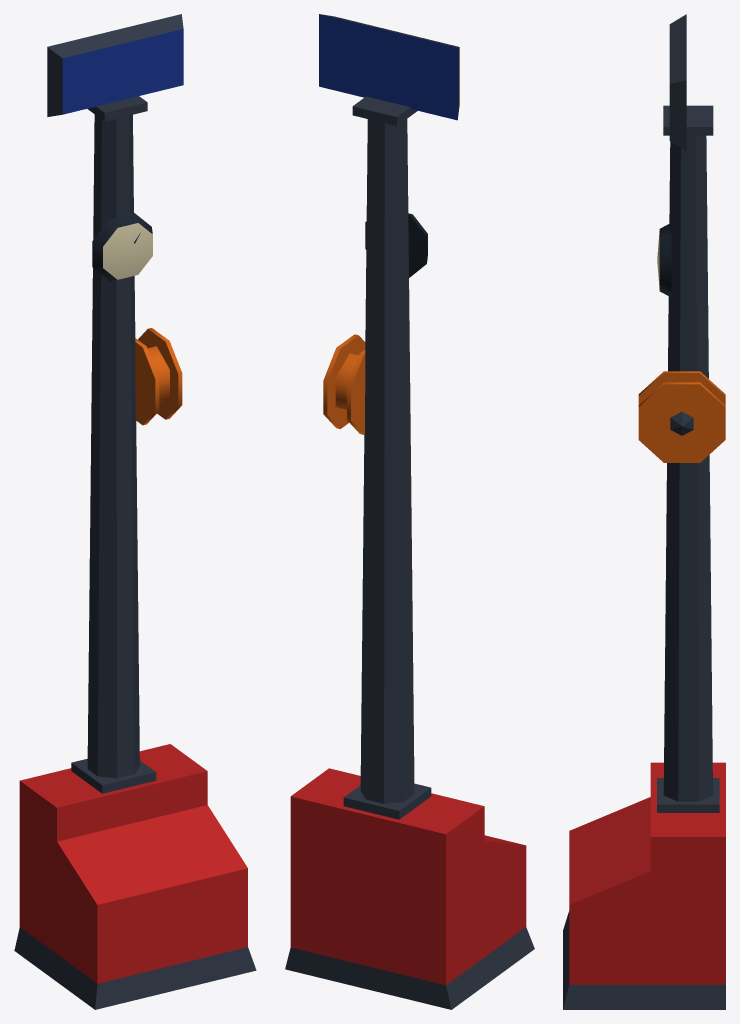
The model's file is yard-air-hose-body.glb.
3 views of the same model, side by side, from view 1: azimuth 30°, elevation 25°; view 2: azimuth 150°, elevation 25°; view 3: azimuth 270°, elevation 25° (orthographic). The views are drawn at different scales.
Parts seen in each view (by area): view 1: Yard-air-hose-bodyBody; view 2: Yard-air-hose-bodyBody; view 3: Yard-air-hose-bodyBody.
Boxes of the visible parts, box(x1,y1,x2,y2) form: Yard-air-hose-bodyBody: box(14, 14, 256, 1009); Yard-air-hose-bodyBody: box(285, 14, 534, 1009); Yard-air-hose-bodyBody: box(563, 14, 725, 1009).
Bounding box in the file's own units: 0.6 × 3.25 × 0.52.
